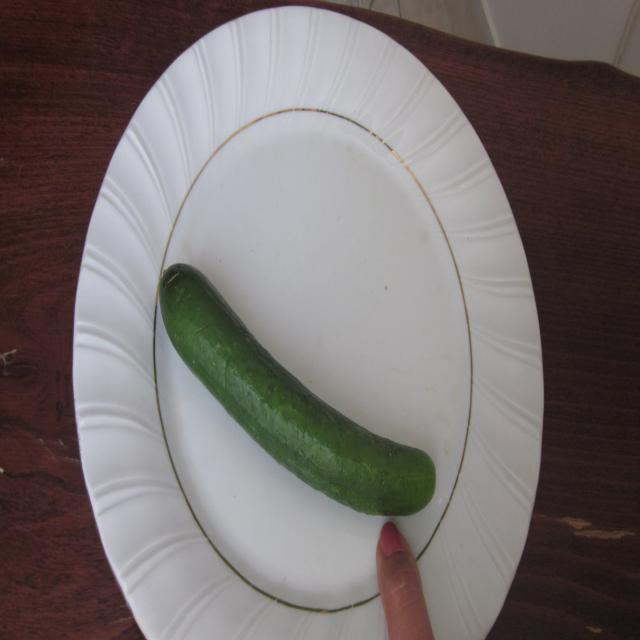cucumber: (152, 252, 450, 526)
